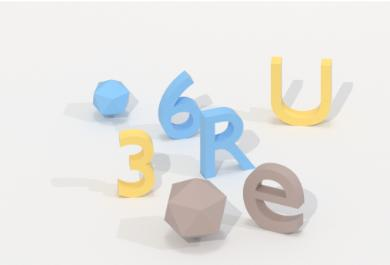0-TronCanh: (160, 174, 230, 245), (89, 75, 132, 121)
3: (112, 127, 159, 202)
6: (154, 66, 206, 142)
R: (198, 103, 256, 178)
U: (267, 51, 337, 131)
e: (240, 161, 308, 238)
